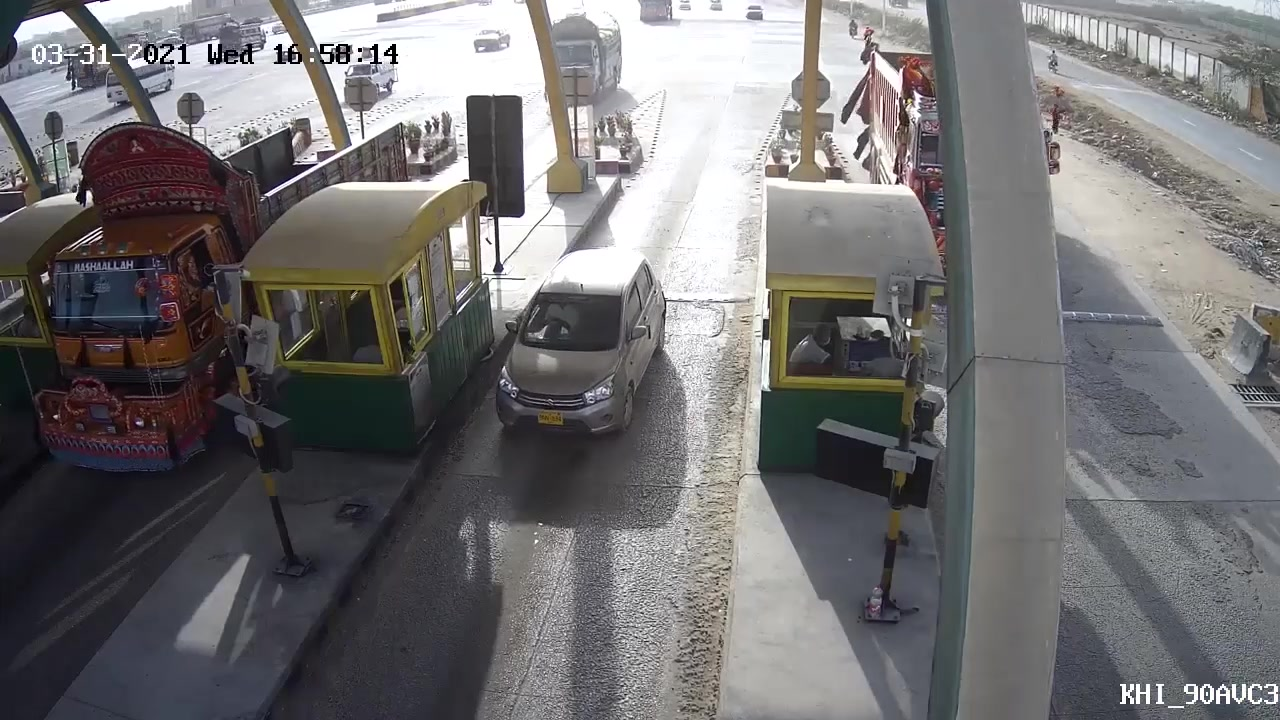F1: (489, 233, 673, 447)
